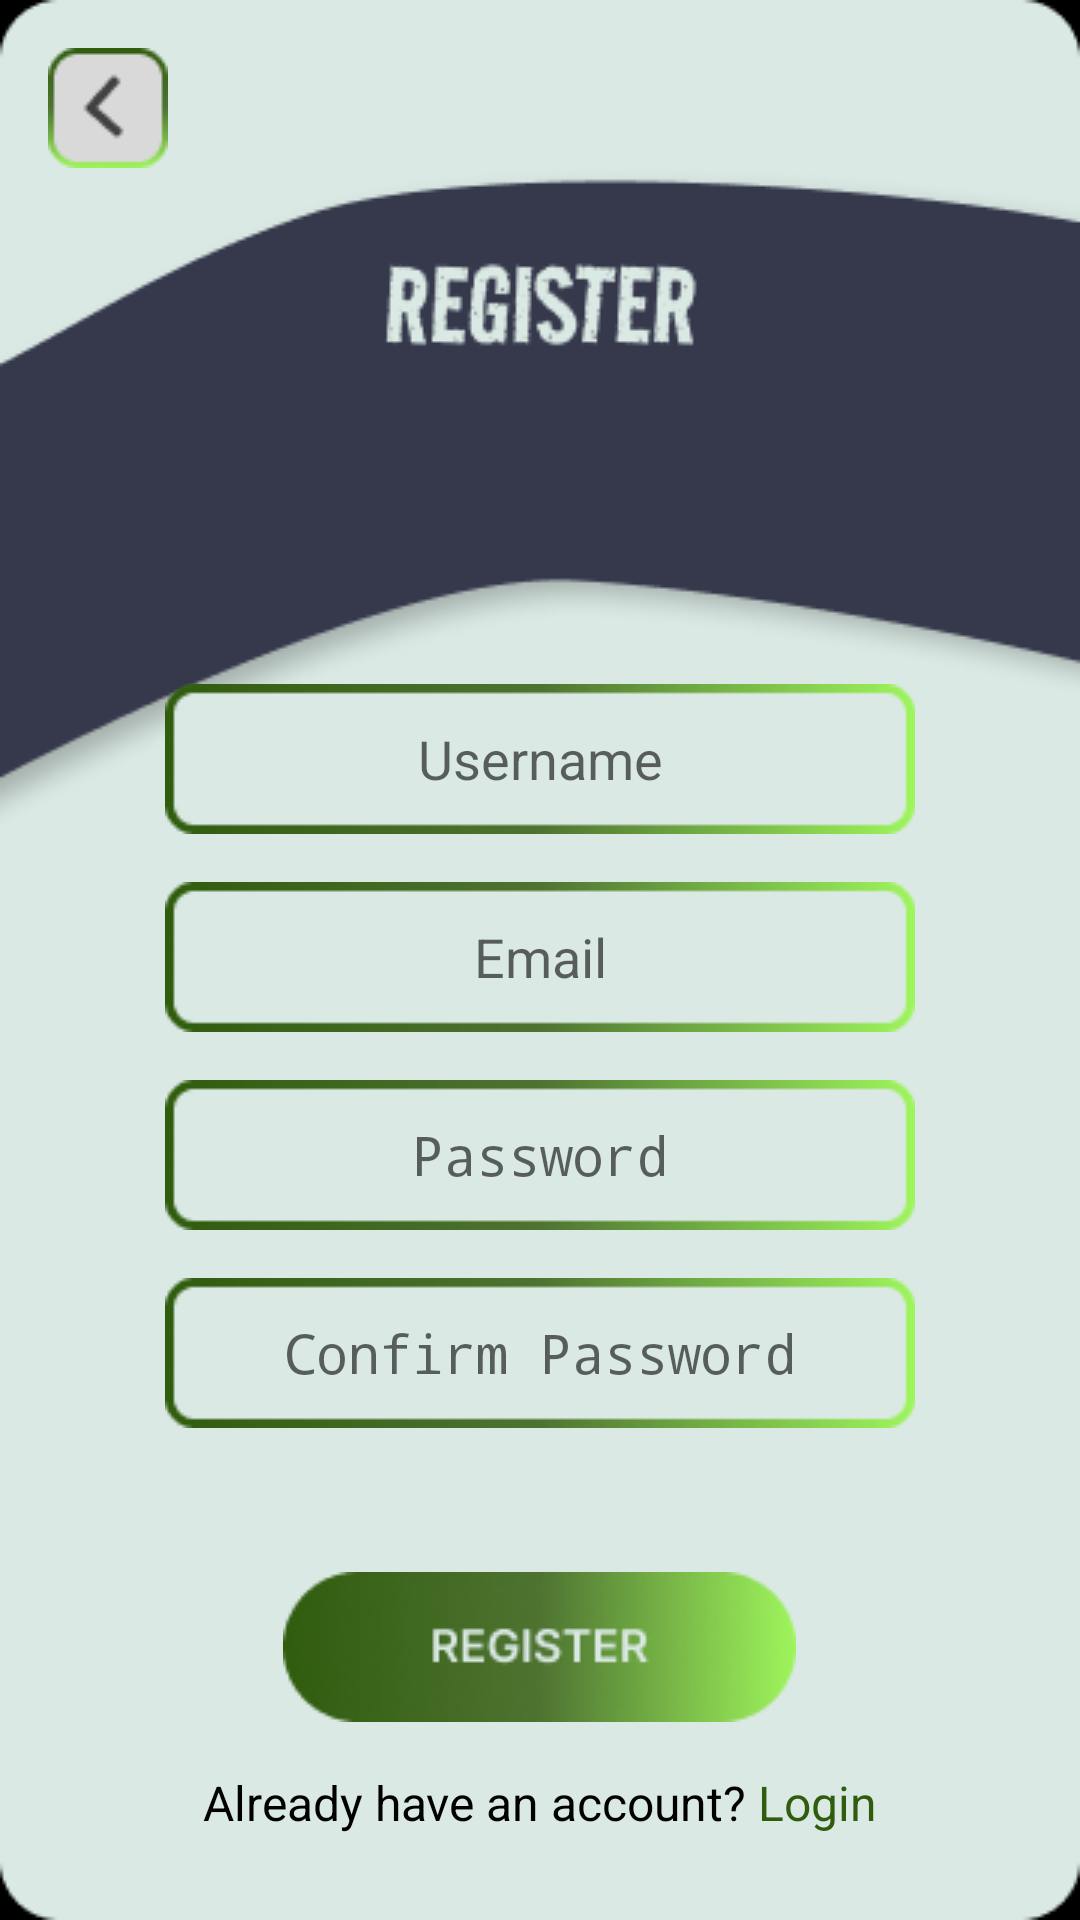

Point at icon controls on the screen. Image size 1080 x 1920, points as point (x, y).
back arrow: point (108, 108)
